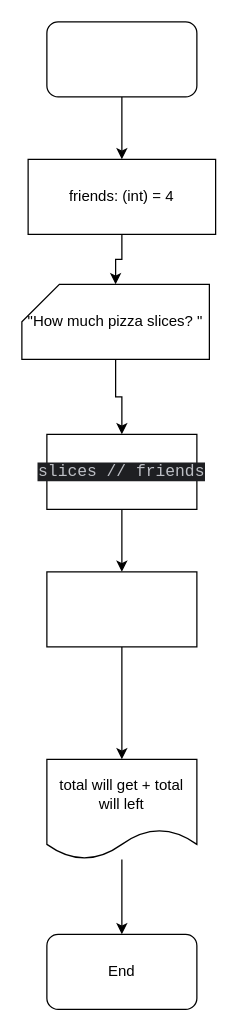
Some shapes in this 238 by 1031 pixel diagram are drawn without their labels. The centre of each missing label's shape, as x and y in pixels:
slices % friends: pixel 121 609
Start: pixel 121 59
